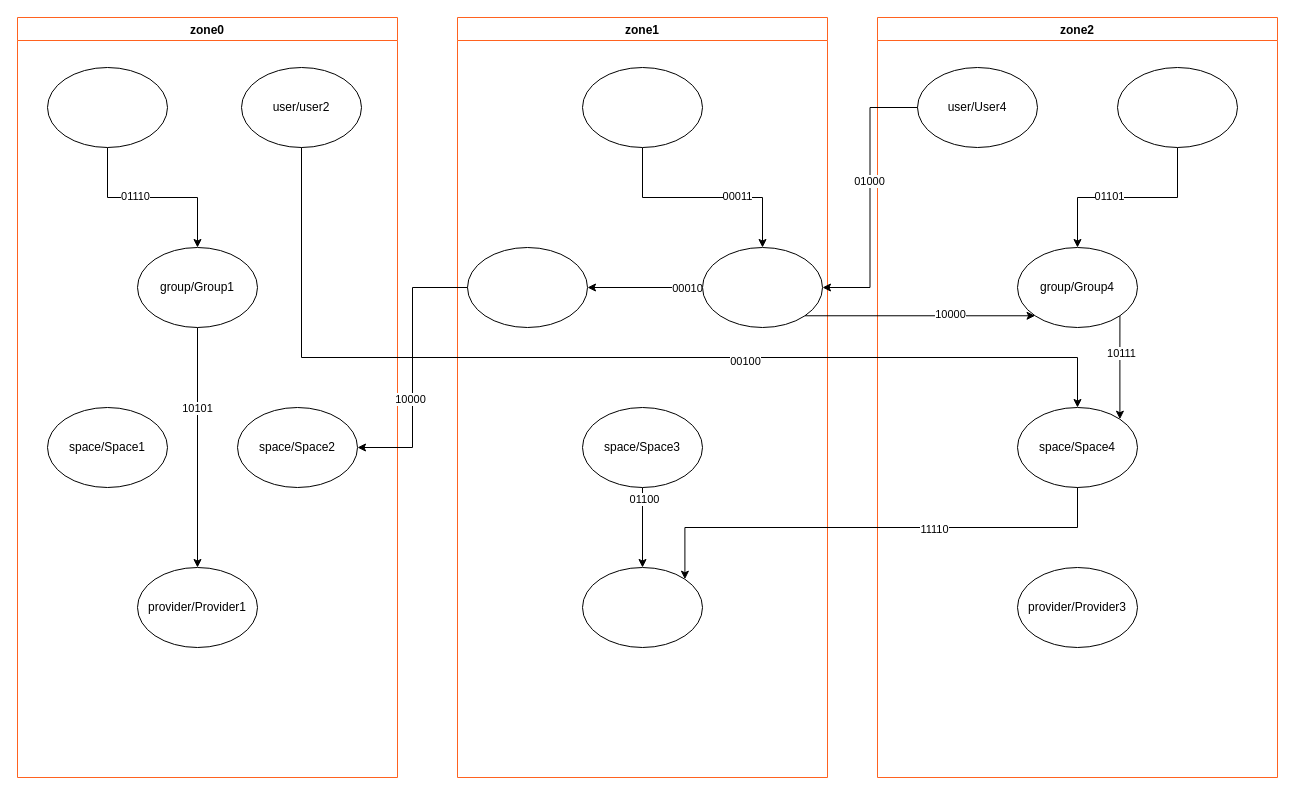
Image size: 1295x795. Some labels were removed from this diagram. The shapes that lost their labels are listed below. From the top down, each one's centre as x and y in pixels, then its label:
At point 107,107: "user/User1".
At point 642,107: "user/User3".
At point 1177,107: "user/User5".
At point 527,287: "group/Group2".
At point 762,287: "group/Group3".
At point 642,607: "provider/Provider2".
